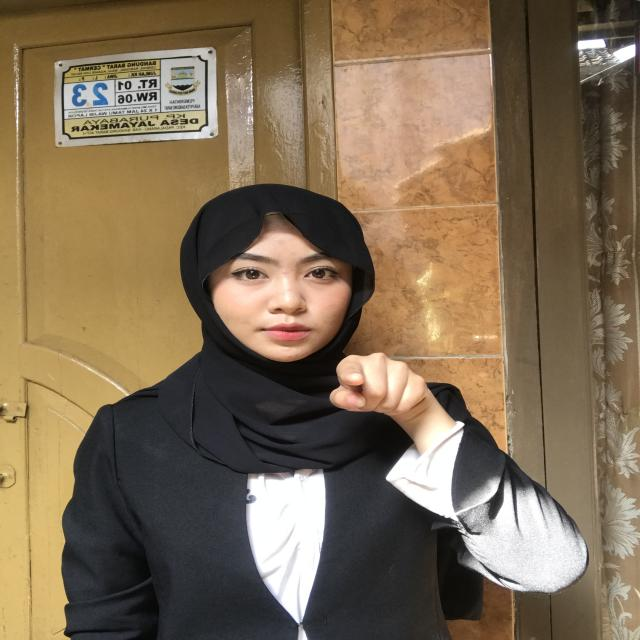kamu: (298, 334, 458, 442)
